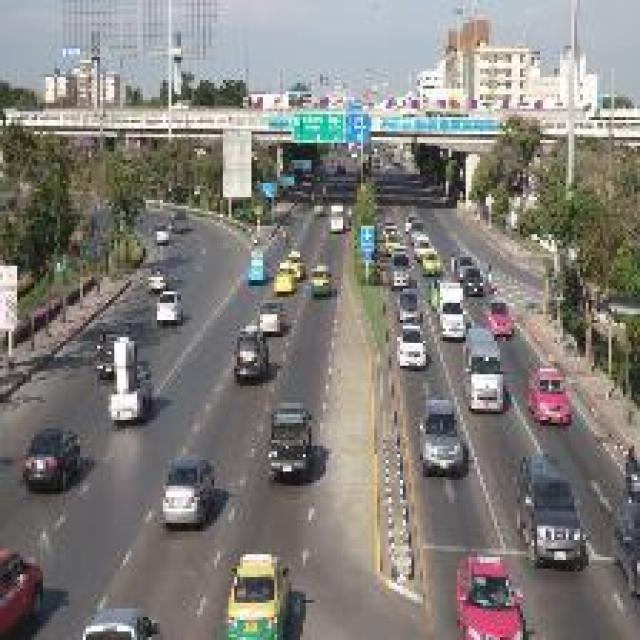other: (447, 543, 543, 634), (524, 358, 582, 430), (276, 245, 303, 298), (486, 295, 514, 327)
